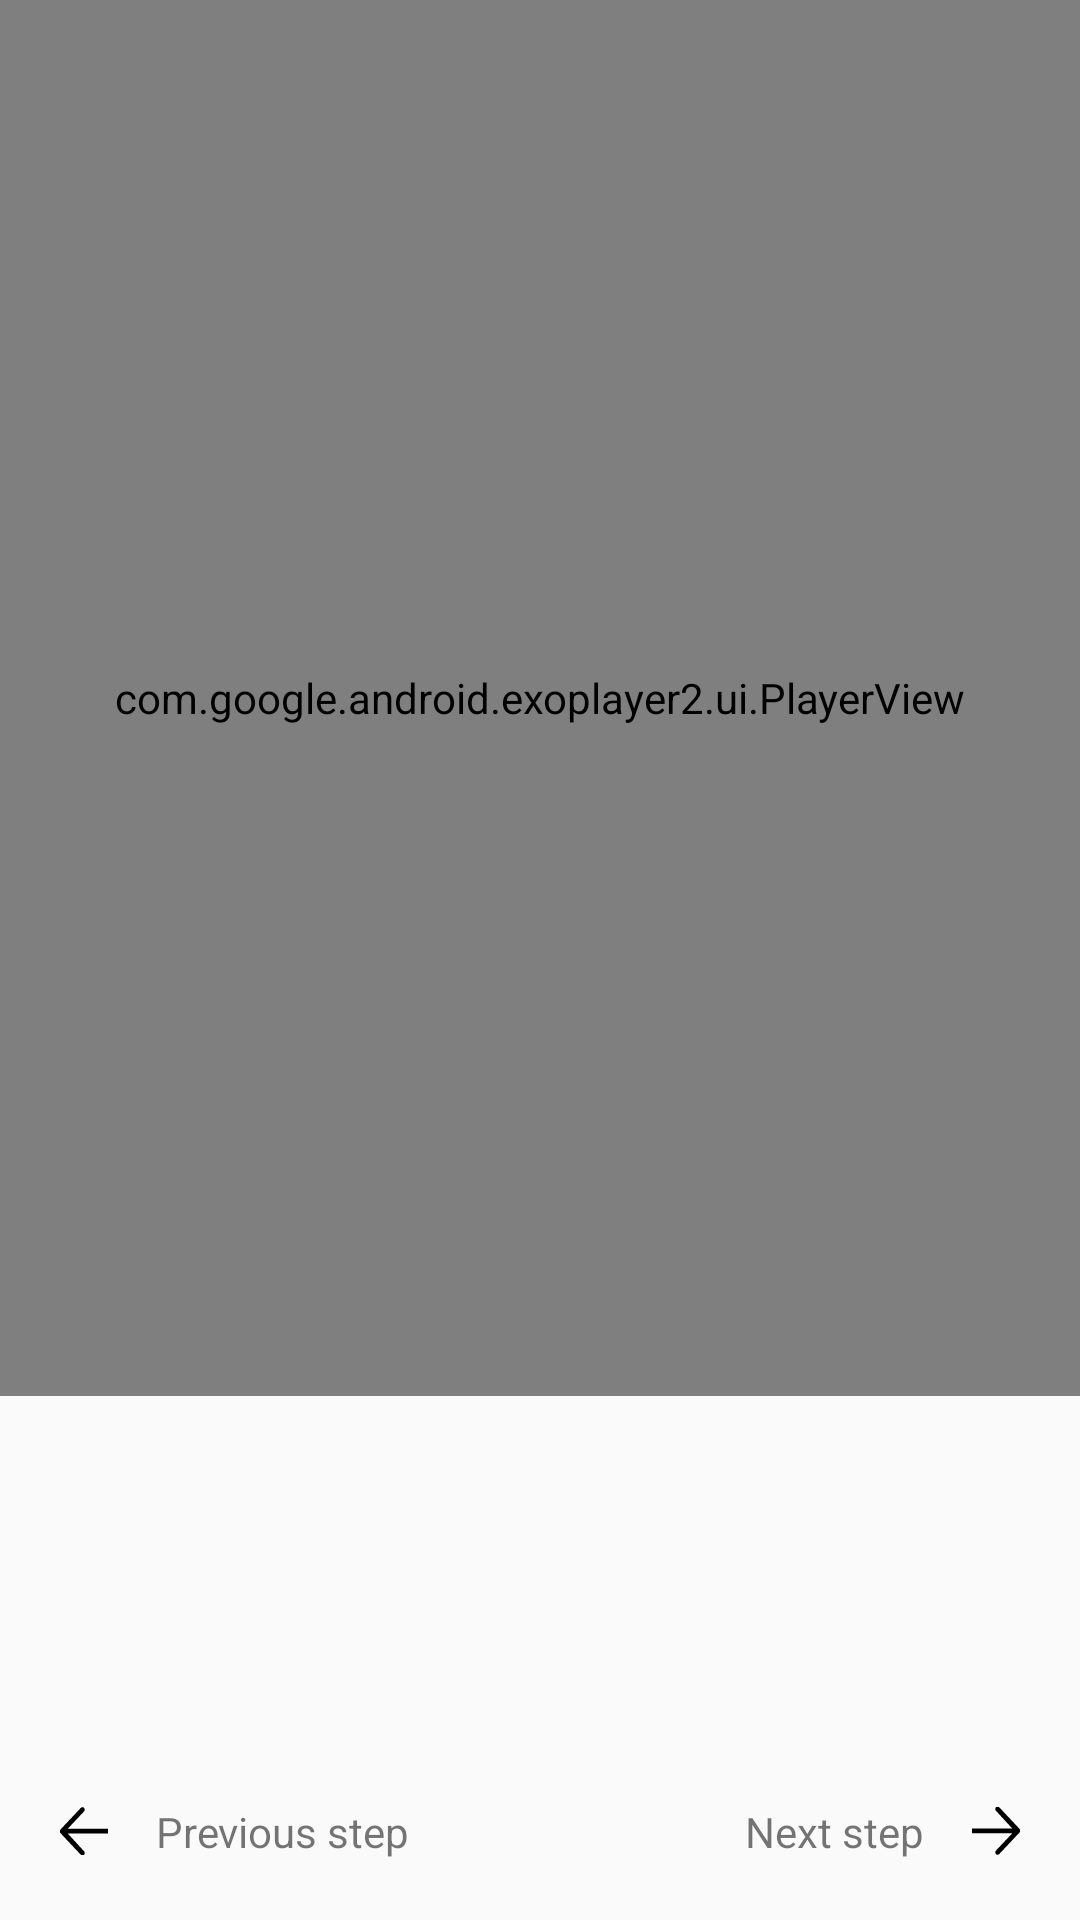

Icon click points for this 1080w x 1920h phone screenshot, format point (x, y):
Left arrow: point (84, 1831)
